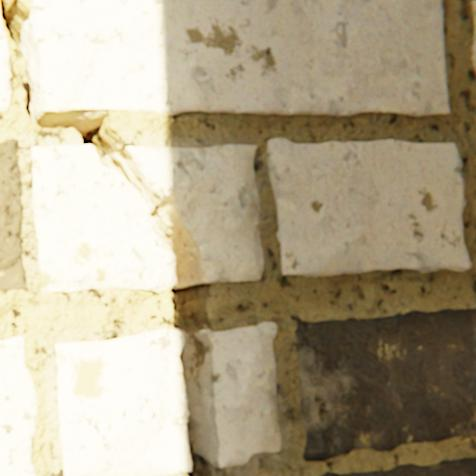brick: (32, 0, 448, 117), (266, 139, 469, 277), (294, 309, 475, 460), (0, 336, 37, 475), (0, 139, 28, 291), (319, 457, 475, 475), (0, 8, 11, 113), (470, 1, 475, 74)
broken_brick: (33, 145, 176, 291), (56, 329, 191, 475), (124, 145, 262, 283), (206, 322, 279, 466)
crack: (0, 0, 219, 475)
